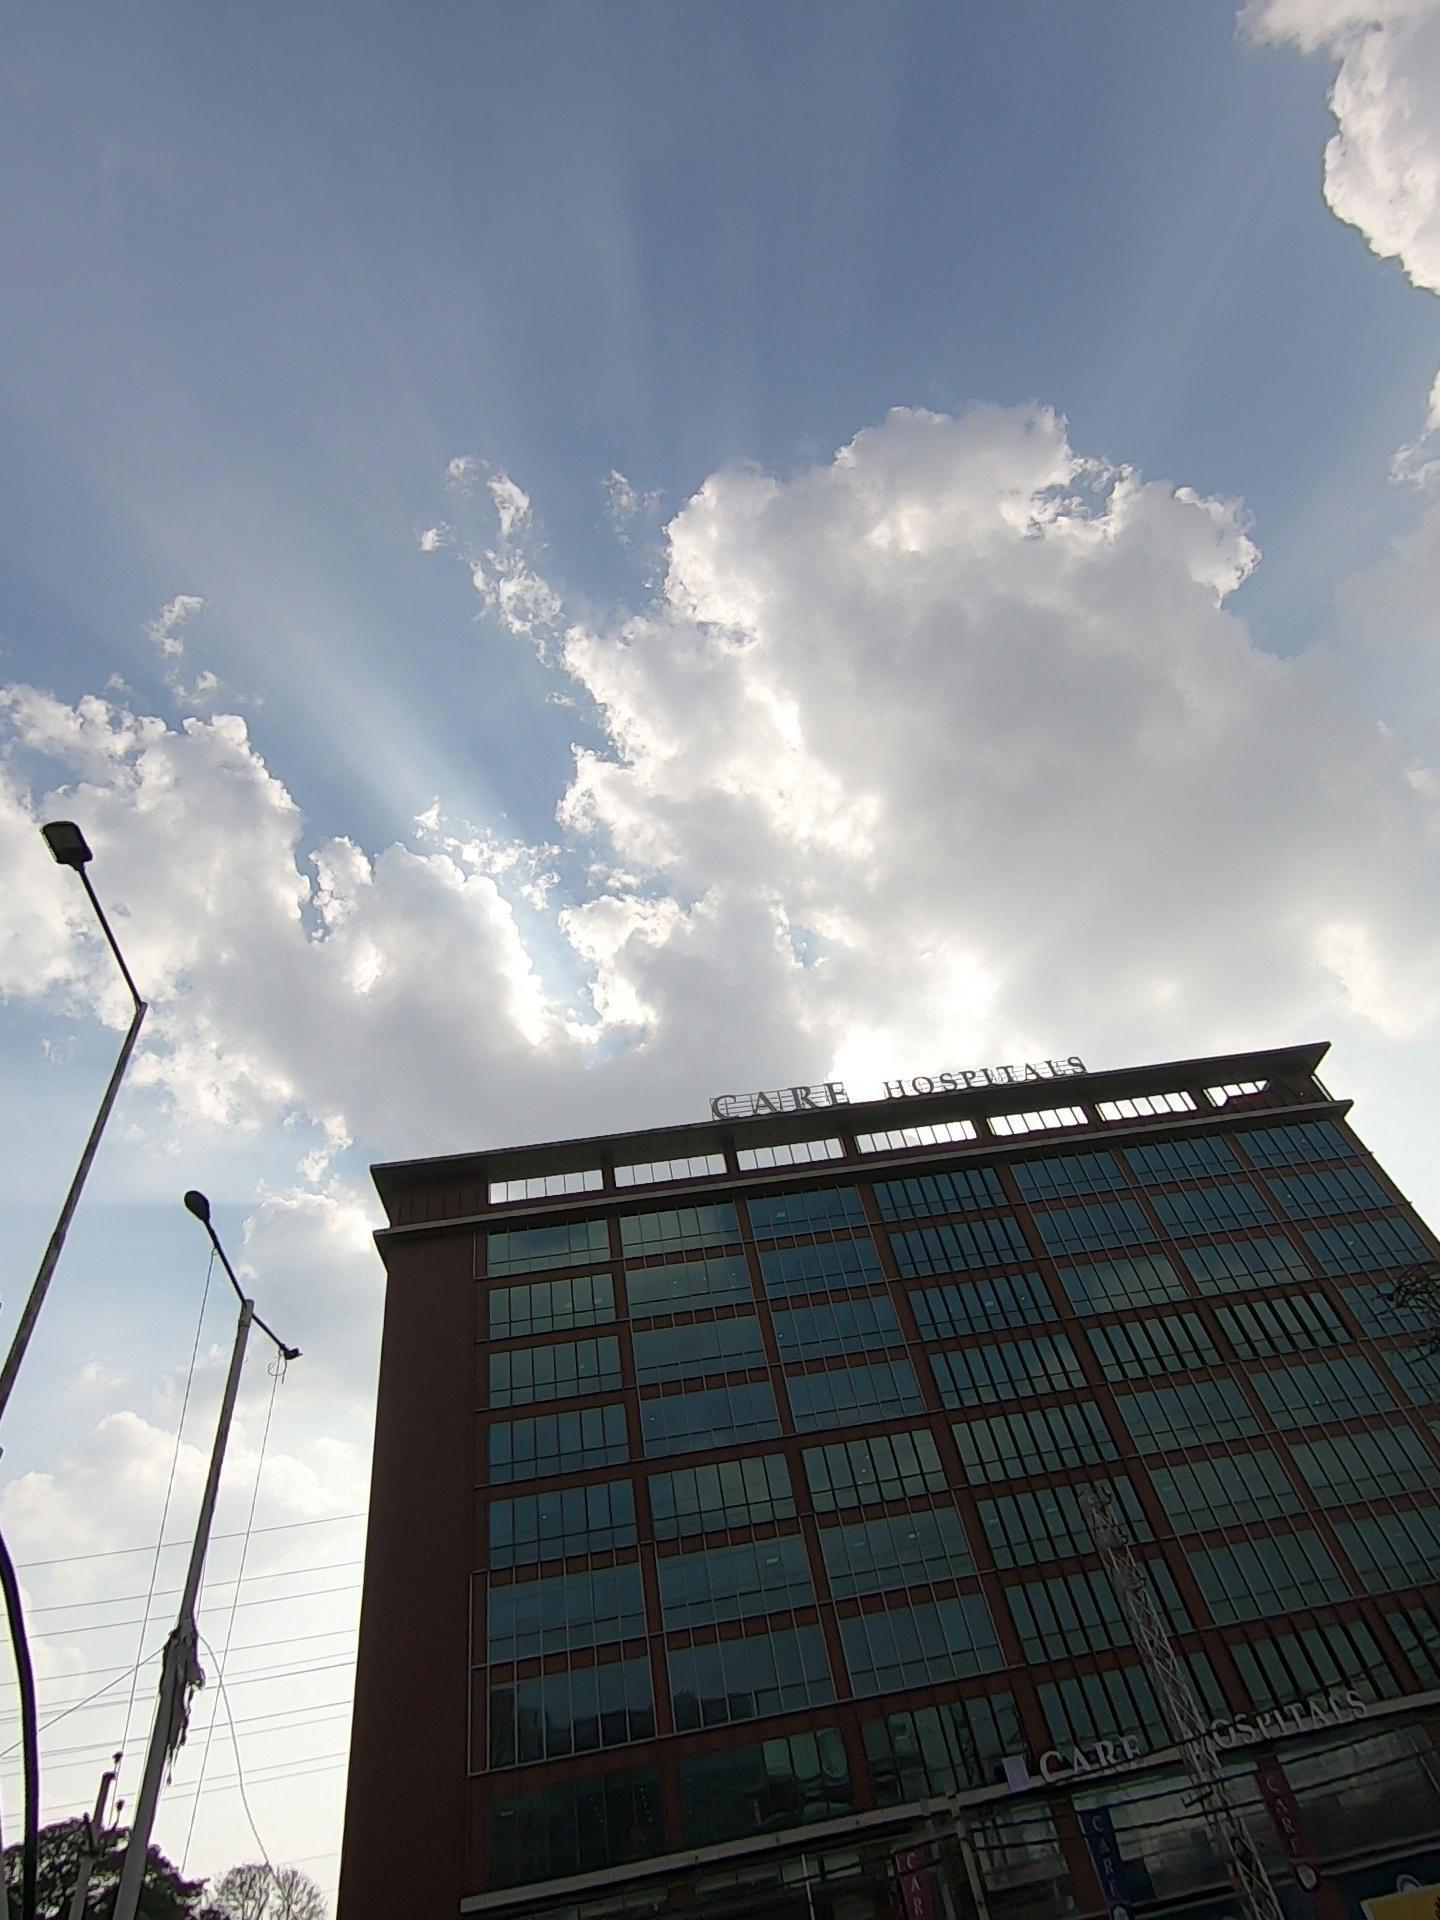off: (154, 1191, 368, 1448), (50, 751, 160, 1007)
